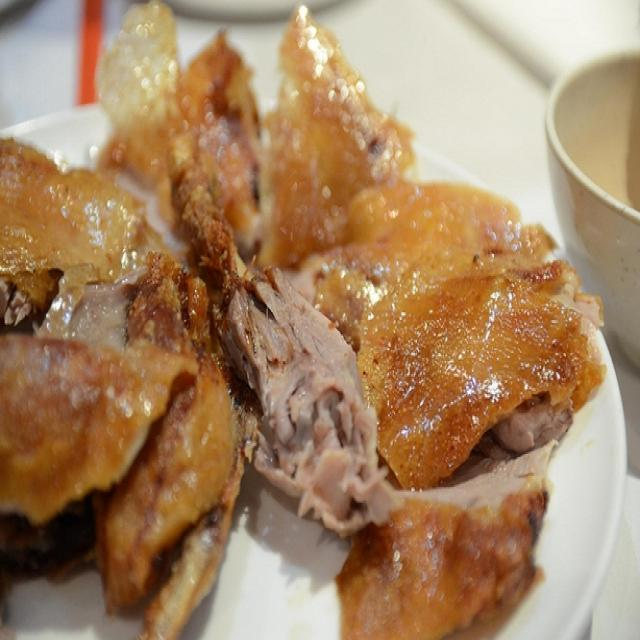烧串烤肉: (5, 33, 569, 602)
